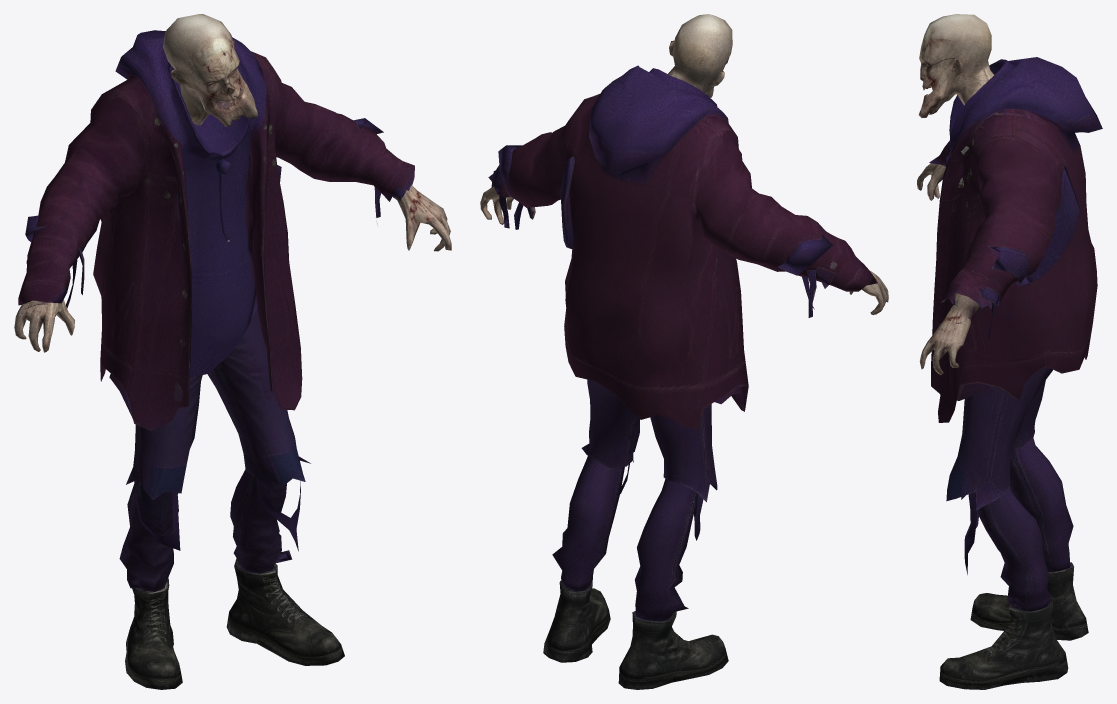
File: zombie_purple.glb
3 renders of one model, left to right at view 1: azimuth 30°, elevation 25°; view 2: azimuth 150°, elevation 25°; view 3: azimuth 270°, elevation 25°, orthographic. The views are drawn at different scales.
Parts seen in each view (by area): view 1: mesh_node; view 2: mesh_node; view 3: mesh_node.
Boxes of the visible parts, box(x1,y1,x2,y2) form: mesh_node: box(14, 14, 451, 689); mesh_node: box(480, 14, 888, 689); mesh_node: box(917, 14, 1102, 689).
Size of the model in its own units: 0.6738 by 1 by 0.2754.
Materials: 1 (1 with a texture image).
